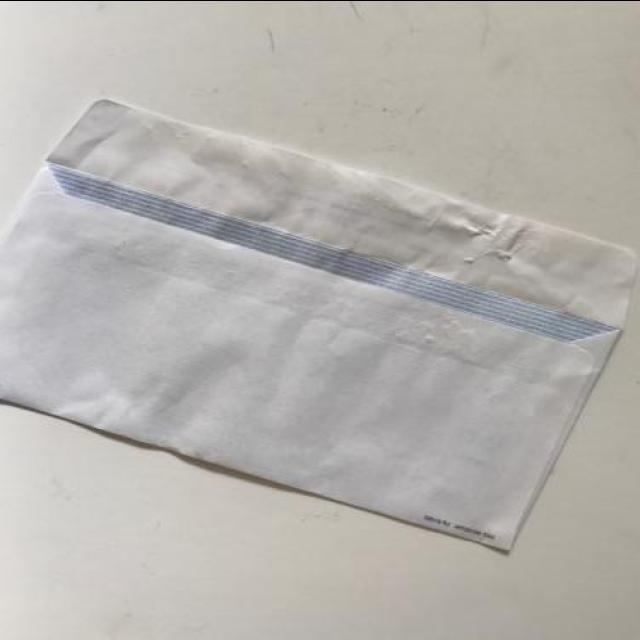kertas: (0, 97, 640, 555)
